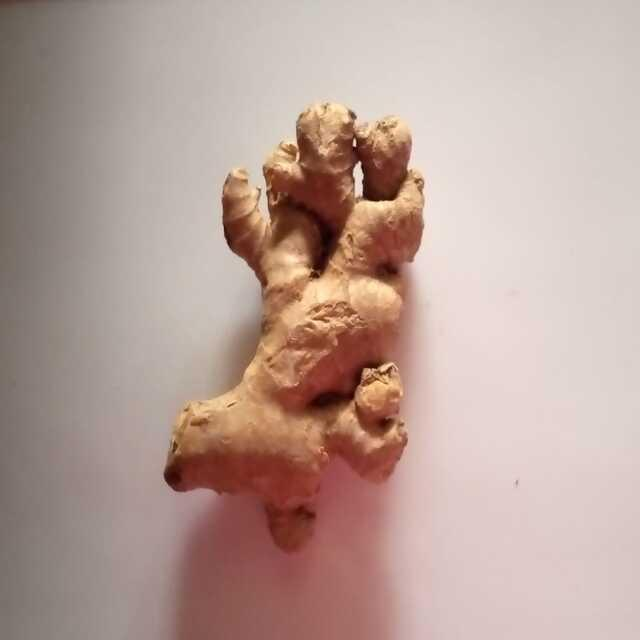ginger: (168, 76, 427, 542)
